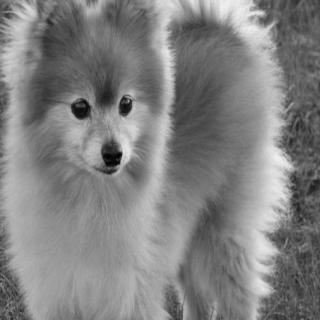dog: (4, 0, 168, 187)
nose: (99, 139, 126, 168)
